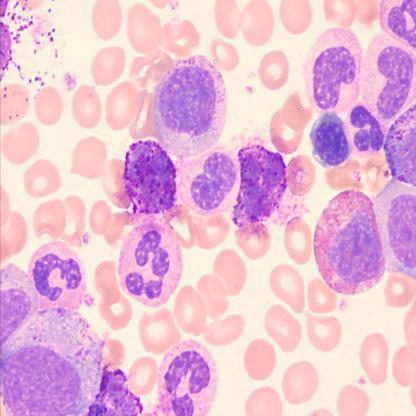NRC: (308, 108, 353, 170)
